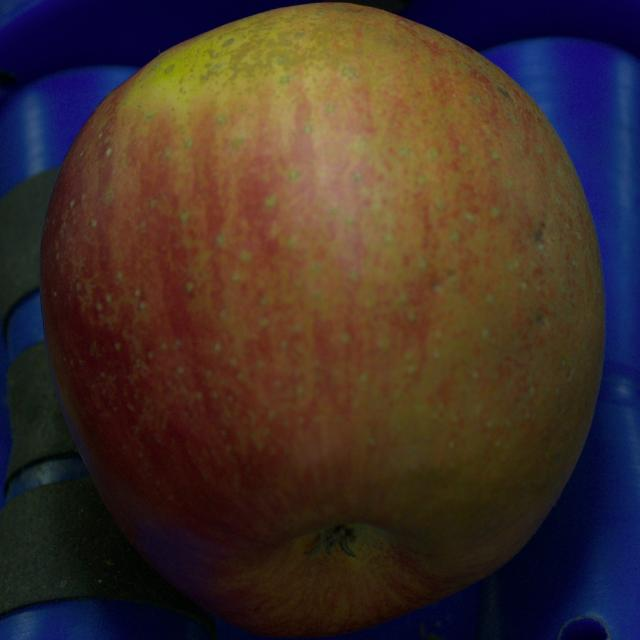apple: (41, 3, 604, 636)
pest: (534, 222, 544, 244)
